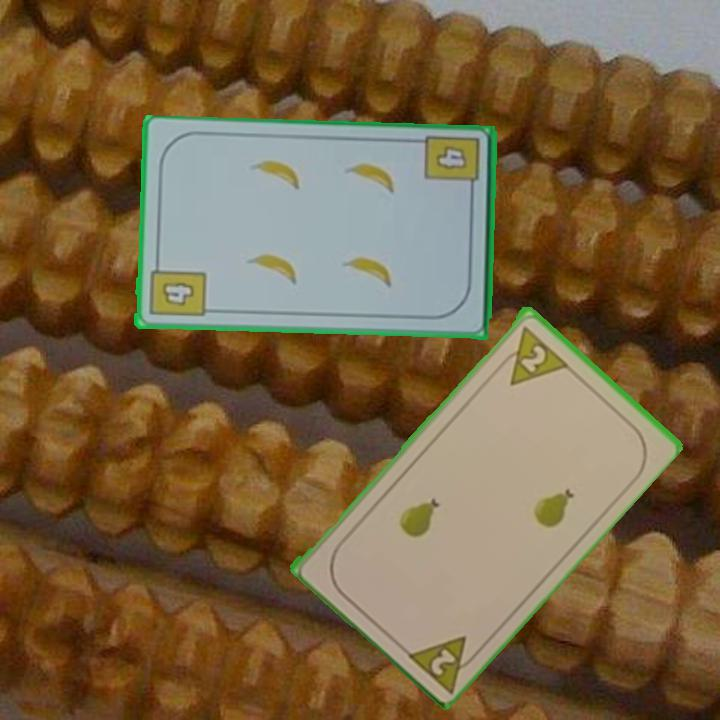2p: (401, 630, 485, 695), (493, 322, 570, 388)
4b: (421, 133, 483, 199), (145, 257, 207, 320)
